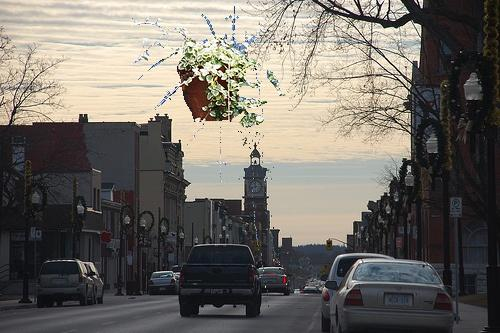tampered: (132, 7, 287, 310)
